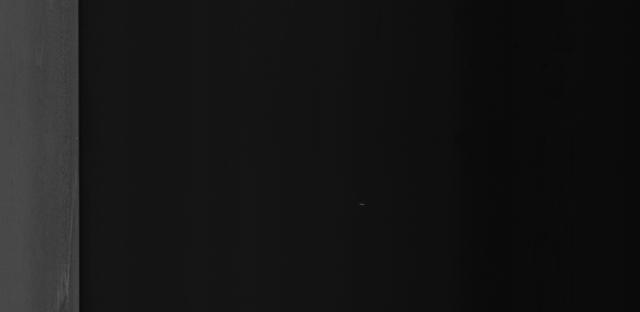silk_spot: (45, 181, 76, 302)
